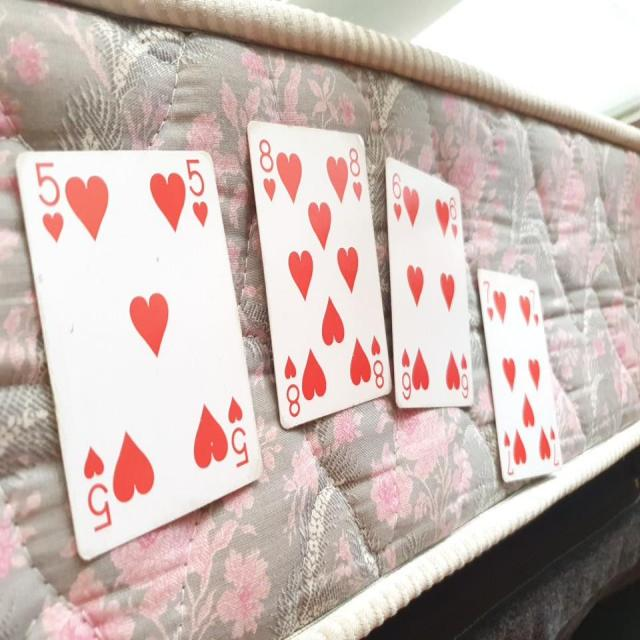5 Hearts: (3, 128, 266, 567)
6 Hearts: (381, 152, 476, 413)
7 Hearts: (475, 264, 570, 480)
8 Hearts: (237, 107, 394, 426)
